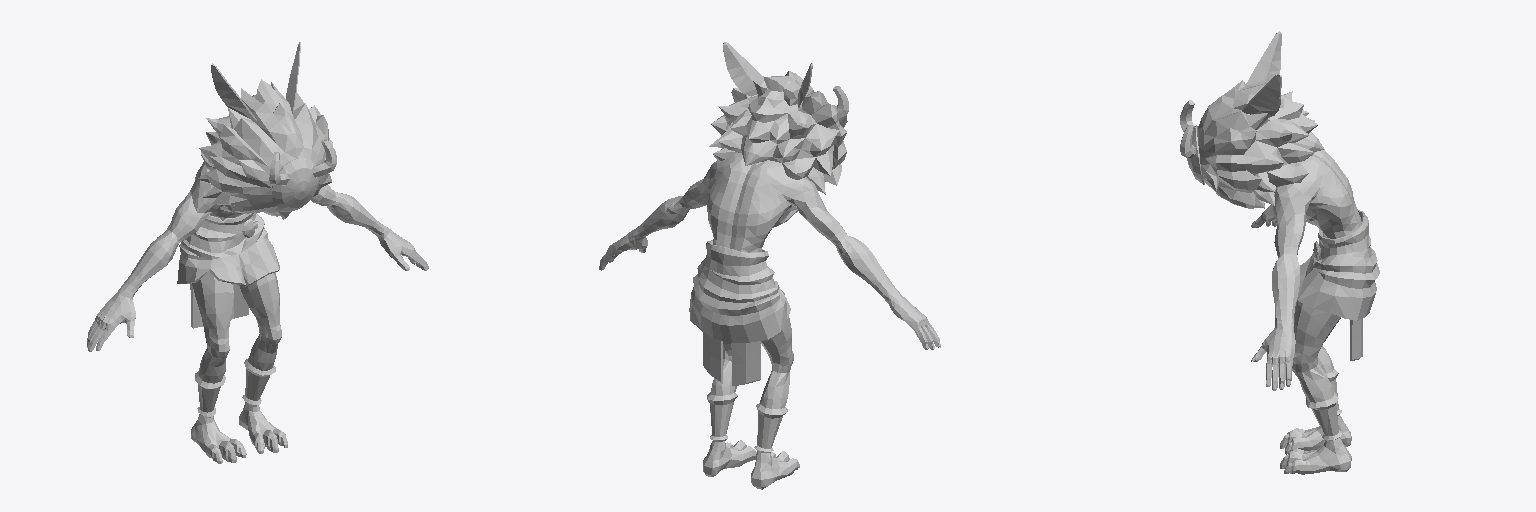
The model's file is Hirutya-ru3.obj.
3 views of the same model, side by side, from view 1: azimuth 30°, elevation 25°; view 2: azimuth 150°, elevation 25°; view 3: azimuth 270°, elevation 25° (orthographic).
Visible parts, largest first — view 1: ヒルチャール_mesh; view 2: ヒルチャール_mesh; view 3: ヒルチャール_mesh.
Boxes of the visible parts, box(x1,y1,x2,y2) form: ヒルチャール_mesh: box(87, 42, 428, 463); ヒルチャール_mesh: box(599, 42, 940, 489); ヒルチャール_mesh: box(1180, 31, 1379, 474).
Bounding box in the file's own units: 5.22 × 5.96 × 2.65.